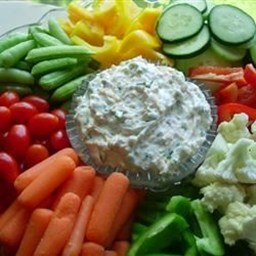background: (0, 0, 102, 102)
